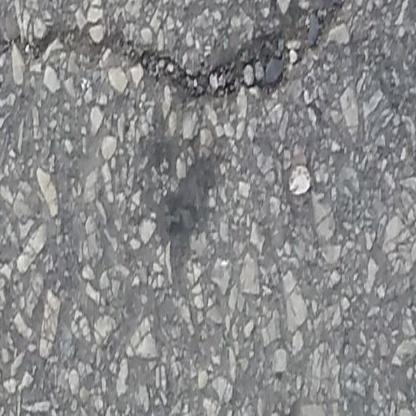Cracks: (13, 0, 354, 110)
